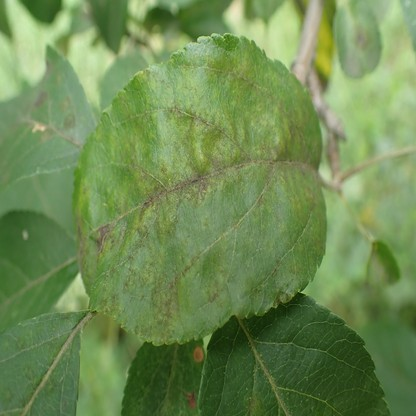frogeye_leaf_spot: (193, 348, 203, 362), (187, 392, 195, 407)
scab: (77, 48, 324, 343), (2, 314, 72, 416), (351, 24, 371, 48), (245, 390, 260, 416), (63, 113, 75, 130), (59, 98, 71, 112), (53, 70, 63, 85)
